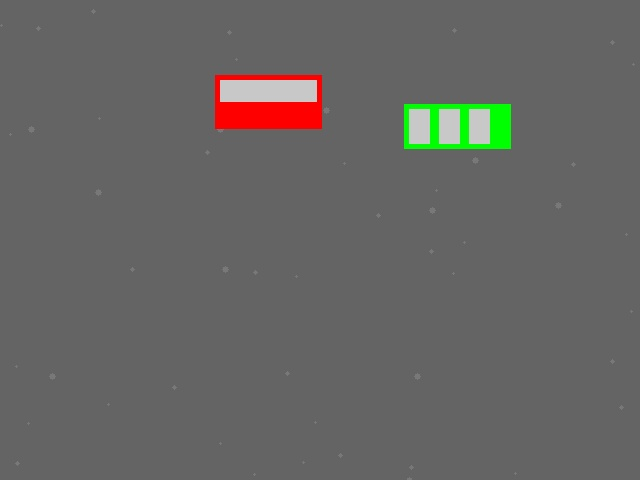bus: (404, 104, 510, 148)
car: (215, 75, 321, 128)
